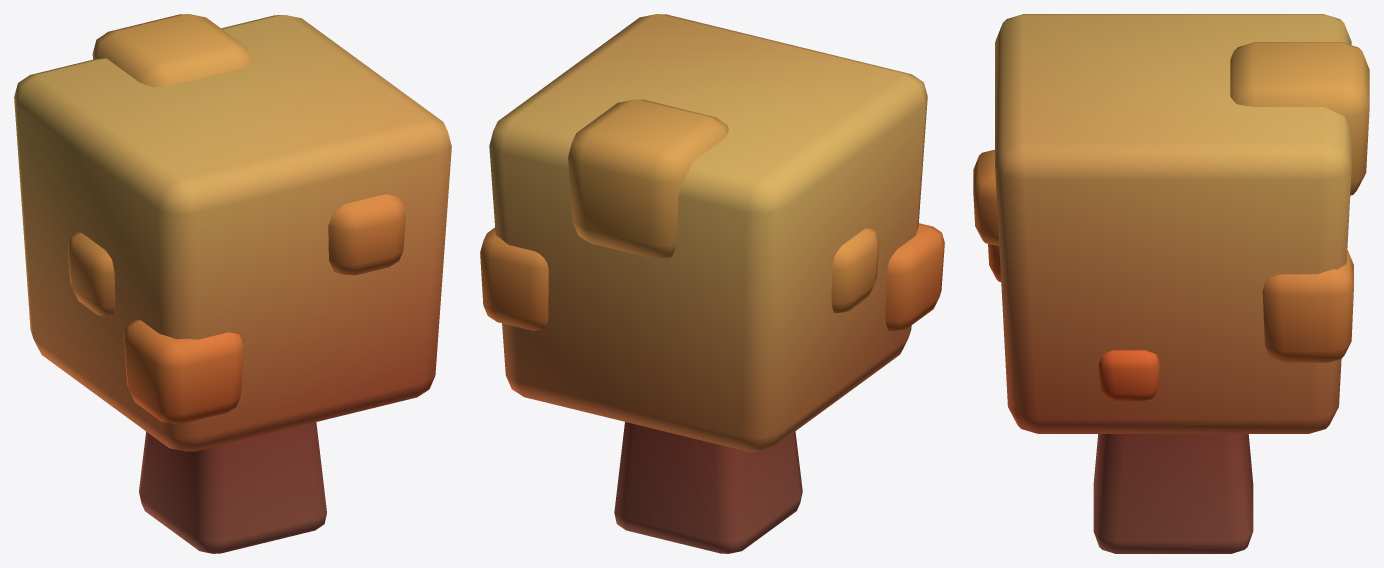
Rendered from orange_tree.fbx.
3 renders of one model, left to right at view 1: azimuth 30°, elevation 25°; view 2: azimuth 150°, elevation 25°; view 3: azimuth 270°, elevation 25°, orthographic. The views are drawn at different scales.
Visible parts, largest first — view 1: tree, Object010; view 2: tree, Object010; view 3: tree, Object010.
Boxes of the visible parts, left/top/right/bottom form: tree: left=14, top=14, right=451, bottom=451; Object010: left=139, top=422, right=326, bottom=553; tree: left=480, top=14, right=944, bottom=451; Object010: left=614, top=422, right=802, bottom=553; tree: left=973, top=14, right=1369, bottom=433; Object010: left=1093, top=434, right=1253, bottom=553.
Bounding box in the file's own units: 181 × 191 × 249.
